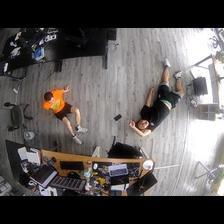fall: (130, 57, 184, 135), (41, 85, 87, 144)
